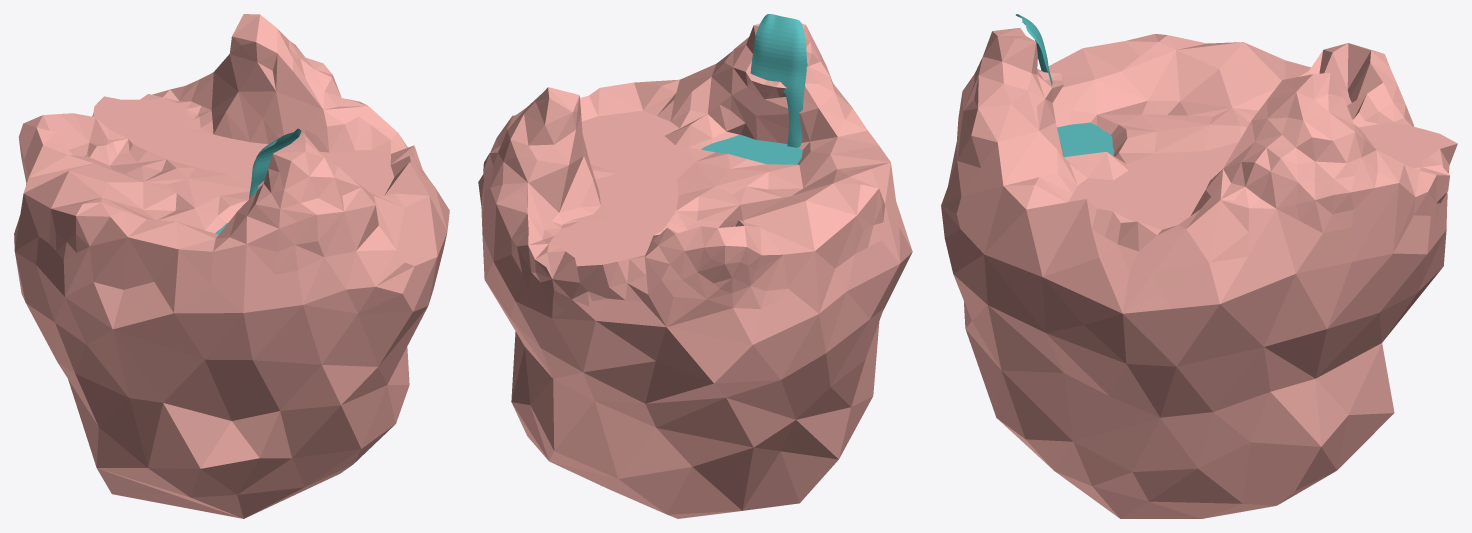
3 views of the same model, side by side, from view 1: azimuth 30°, elevation 25°; view 2: azimuth 150°, elevation 25°; view 3: azimuth 270°, elevation 25° (orthographic). The views are drawn at different scales.
Visible parts, largest first — view 1: Plane.001, waterfall; view 2: Plane.001, waterfall, water; view 3: Plane.001, water.
Boxes of the visible parts, x1,y1,x2,y2 form: Plane.001: (14, 14, 449, 518); waterfall: (249, 128, 301, 198); Plane.001: (478, 23, 912, 518); waterfall: (750, 14, 806, 147); water: (701, 134, 802, 164); Plane.001: (941, 28, 1457, 518); water: (1057, 122, 1114, 157).
Size of the model in its own units: 19433 by 20925 by 20261.
